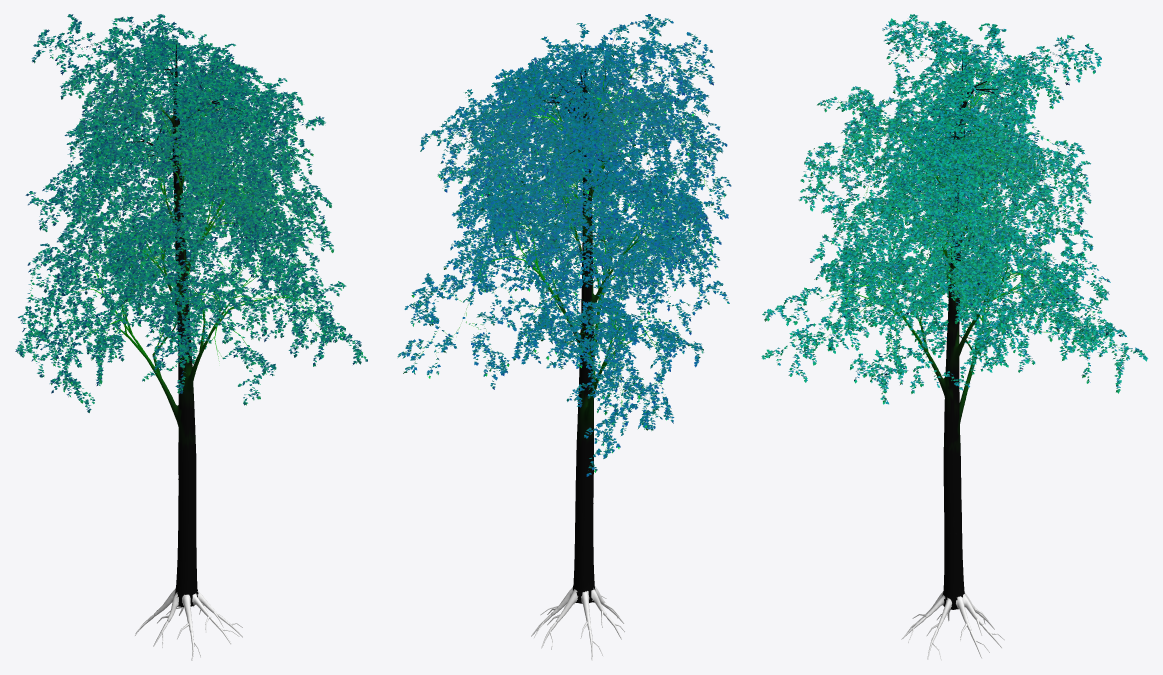
3 views of the same model, side by side, from view 1: azimuth 30°, elevation 25°; view 2: azimuth 150°, elevation 25°; view 3: azimuth 270°, elevation 25° (orthographic). The views are drawn at different scales.
Parts seen in each view (by area): view 1: Foliage, Trunk, Twigs, Branches, Roots, RootTips; view 2: Foliage, Trunk, Twigs, Roots, Branches, RootTips; view 3: Foliage, Trunk, Twigs, Branches, Roots, RootTips.
Part boxes in pixels (left/top/right/bottom): Foliage: left=15, top=14, right=367, bottom=412; Trunk: left=171, top=65, right=198, bottom=606; Twigs: left=30, top=22, right=354, bottom=378; Branches: left=116, top=73, right=214, bottom=426; Roots: left=154, top=589, right=218, bottom=632; RootTips: left=135, top=603, right=242, bottom=660; Foliage: left=397, top=14, right=731, bottom=476; Trunk: left=573, top=70, right=595, bottom=603; Twigs: left=410, top=23, right=711, bottom=454; Roots: left=551, top=586, right=608, bottom=630; Branches: left=533, top=81, right=629, bottom=427; RootTips: left=531, top=595, right=624, bottom=660; Foliage: left=761, top=14, right=1147, bottom=404; Trunk: left=942, top=80, right=965, bottom=609; Twigs: left=784, top=24, right=1126, bottom=391; Branches: left=912, top=97, right=989, bottom=423; Roots: left=923, top=591, right=983, bottom=630; RootTips: left=901, top=608, right=1004, bottom=660.
Size of the model in its own units: 33731 by 41061 by 70671.
